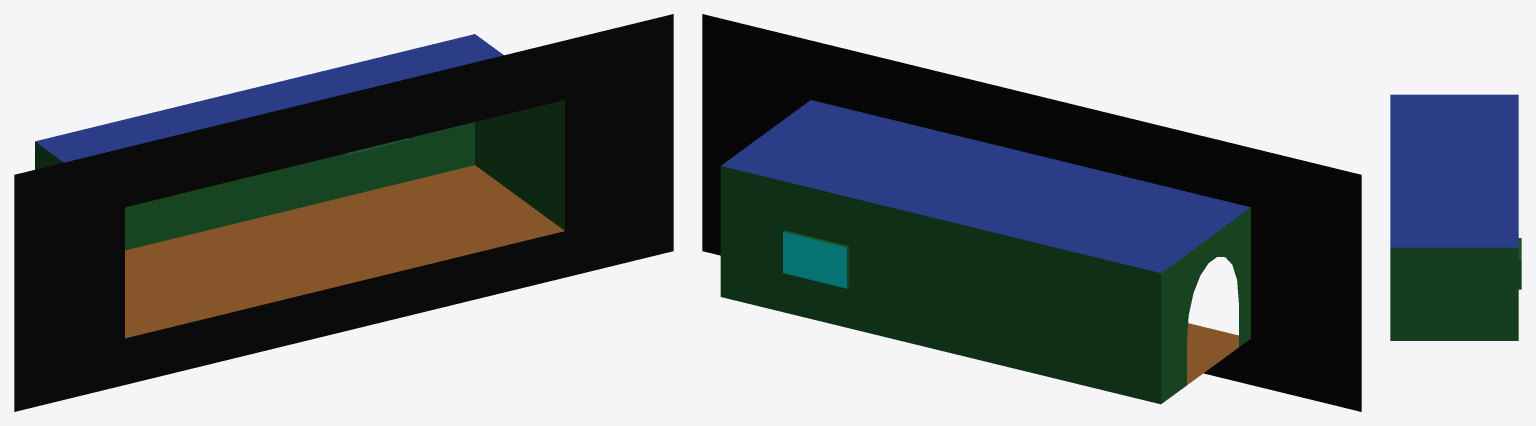
File: olohuone yes.fbx
3 renders of one model, left to right at view 1: azimuth 30°, elevation 25°; view 2: azimuth 150°, elevation 25°; view 3: azimuth 270°, elevation 25°, orthographic. The views are drawn at different scales.
Parts seen in each view (by area): view 1: Cube.002; view 2: Cube.002; view 3: Cube.002.
Boxes of the visible parts, x1=… form: Cube.002: x1=14, y1=14, x2=673, y2=411; Cube.002: x1=702, y1=14, x2=1361, y2=411; Cube.002: x1=1390, y1=94, x2=1521, y2=340.
Size of the model in its own units: 6592 by 2267 by 1596.
